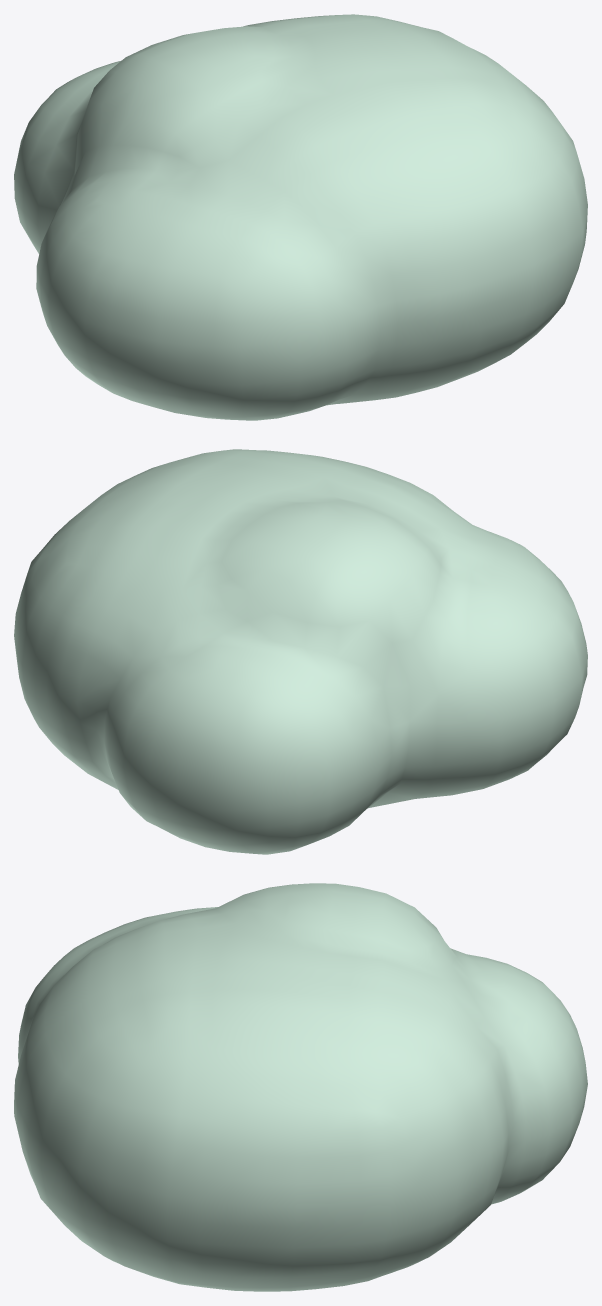
Rendered from Cloud_2.fbx.
3 renders of one model, top to bottom at view 1: azimuth 30°, elevation 25°; view 2: azimuth 150°, elevation 25°; view 3: azimuth 270°, elevation 25°, orthographic. The views are drawn at different scales.
Visible parts, largest first — view 1: Cloud_2; view 2: Cloud_2; view 3: Cloud_2.
Boxes of the visible parts, x1,y1,x2,y2 form: Cloud_2: (14,14,587,420); Cloud_2: (14,449,587,854); Cloud_2: (14,883,587,1291).
Size of the model in its own units: 3.35 by 1.97 by 3.26.
